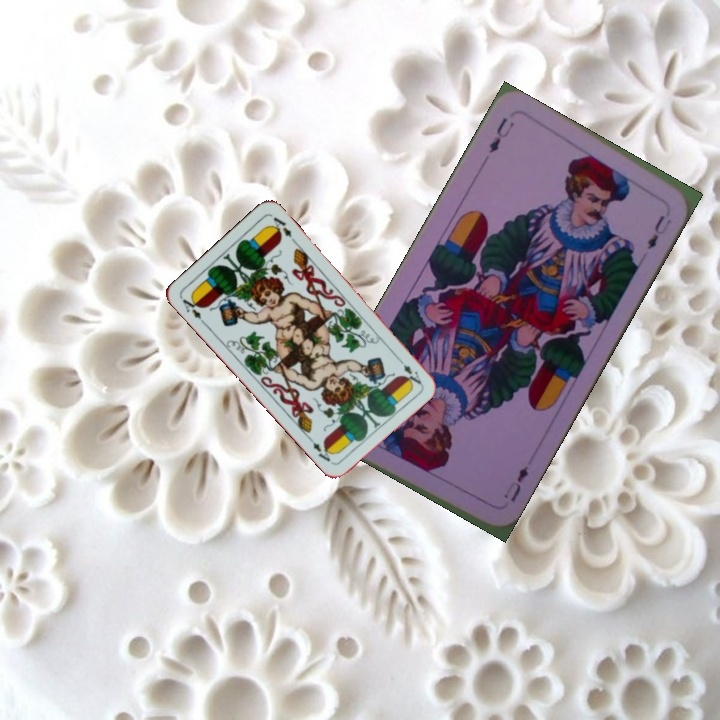EA: (178, 291, 209, 328), (393, 353, 424, 387)
EU: (484, 113, 517, 156), (499, 462, 531, 505)
